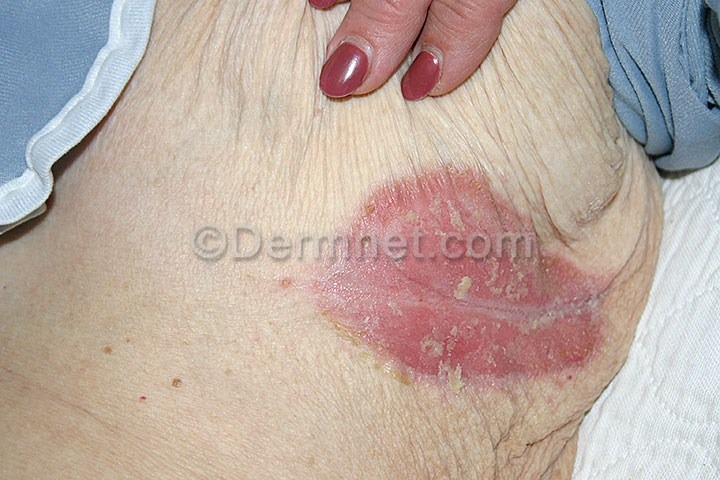Psoriasis: (321, 163, 620, 404)
